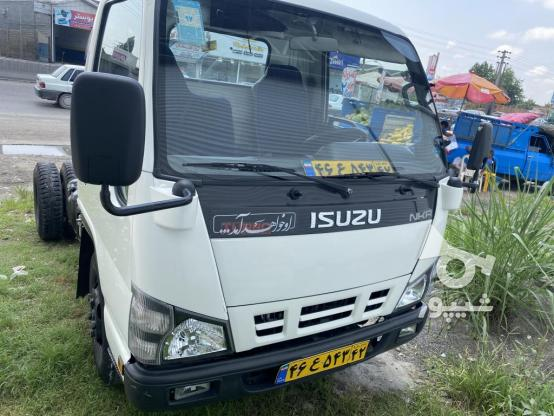car: (275, 338, 369, 387)
